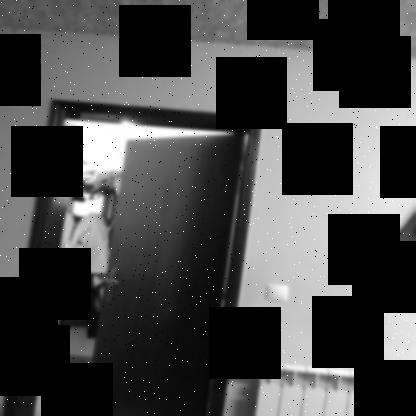Porte: (0, 98, 265, 415)
